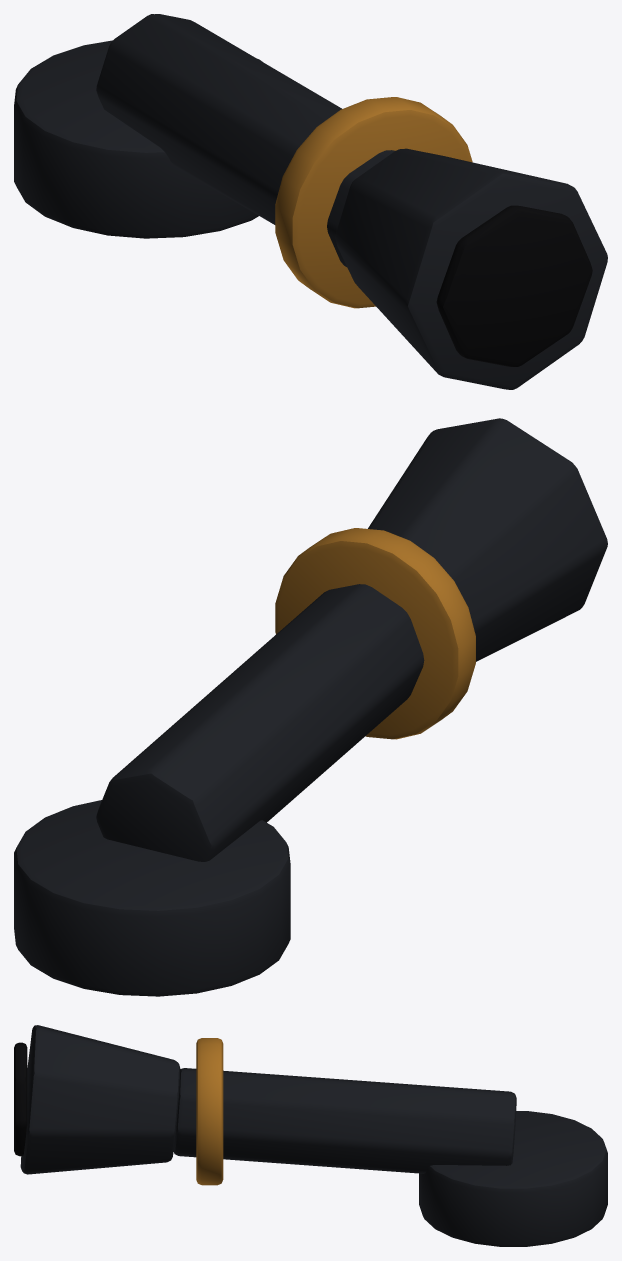
Rendered from FlameNozzle.obj.
3 views of the same model, one above another, from view 1: azimuth 30°, elevation 25°; view 2: azimuth 150°, elevation 25°; view 3: azimuth 270°, elevation 25° (orthographic). The views are drawn at different scales.
Visible parts, largest first — view 1: FlameNozzle; view 2: FlameNozzle; view 3: FlameNozzle.
Part boxes in pixels (x1,y1,x2,y2): FlameNozzle: (14,14,607,389); FlameNozzle: (14,418,607,996); FlameNozzle: (14,1025,607,1246).
Size of the model in its own units: 0.2772 by 0.2957 by 0.88.
